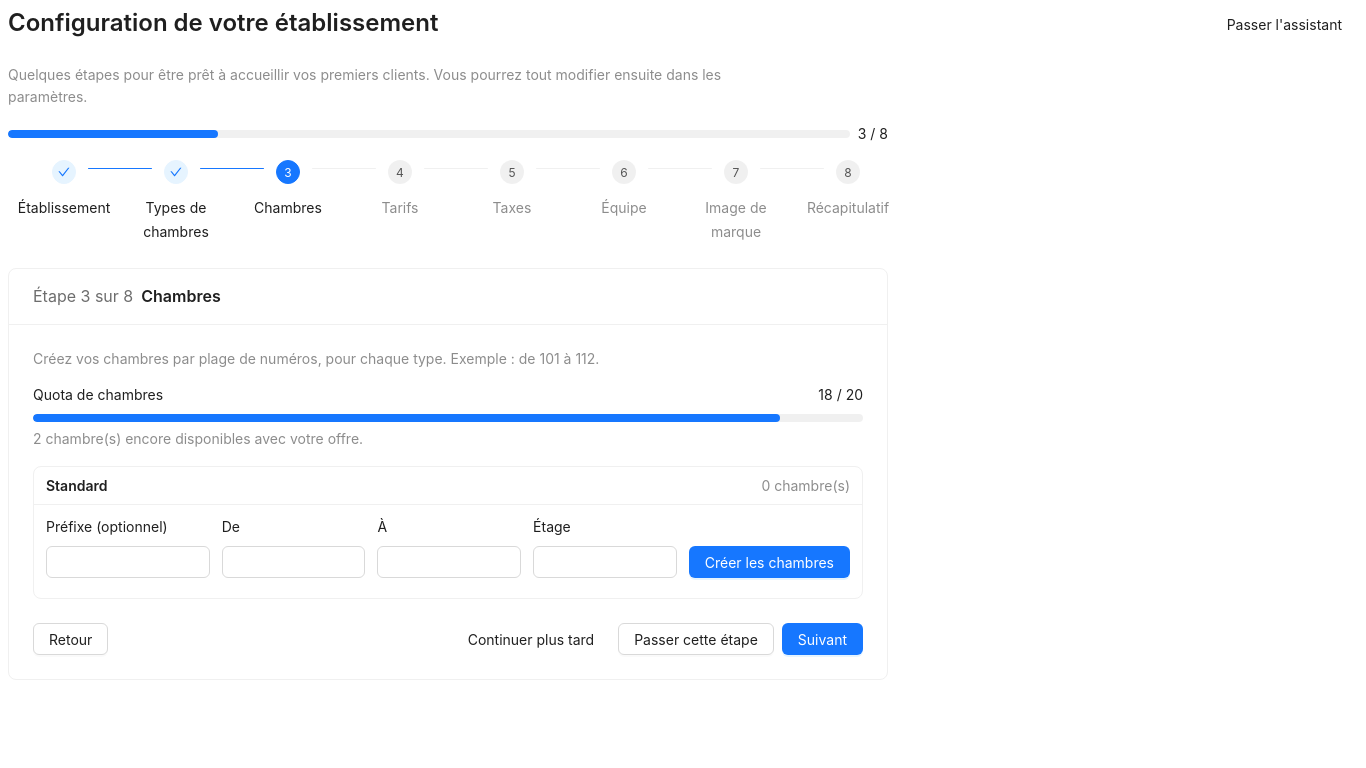
Test: onboarding wizard › resumes at the saved step and saves the progress when moving back and forth
This screenshot has width=1366, height=768.
Expected: the text "Étape 3 sur 8" is shown, [33,286,133,306]
Expected: the text "Créez vos chambres par plage" is shown, [33,350,599,367]
Click the button "Retour" at (71, 639), box [33,623,108,655]
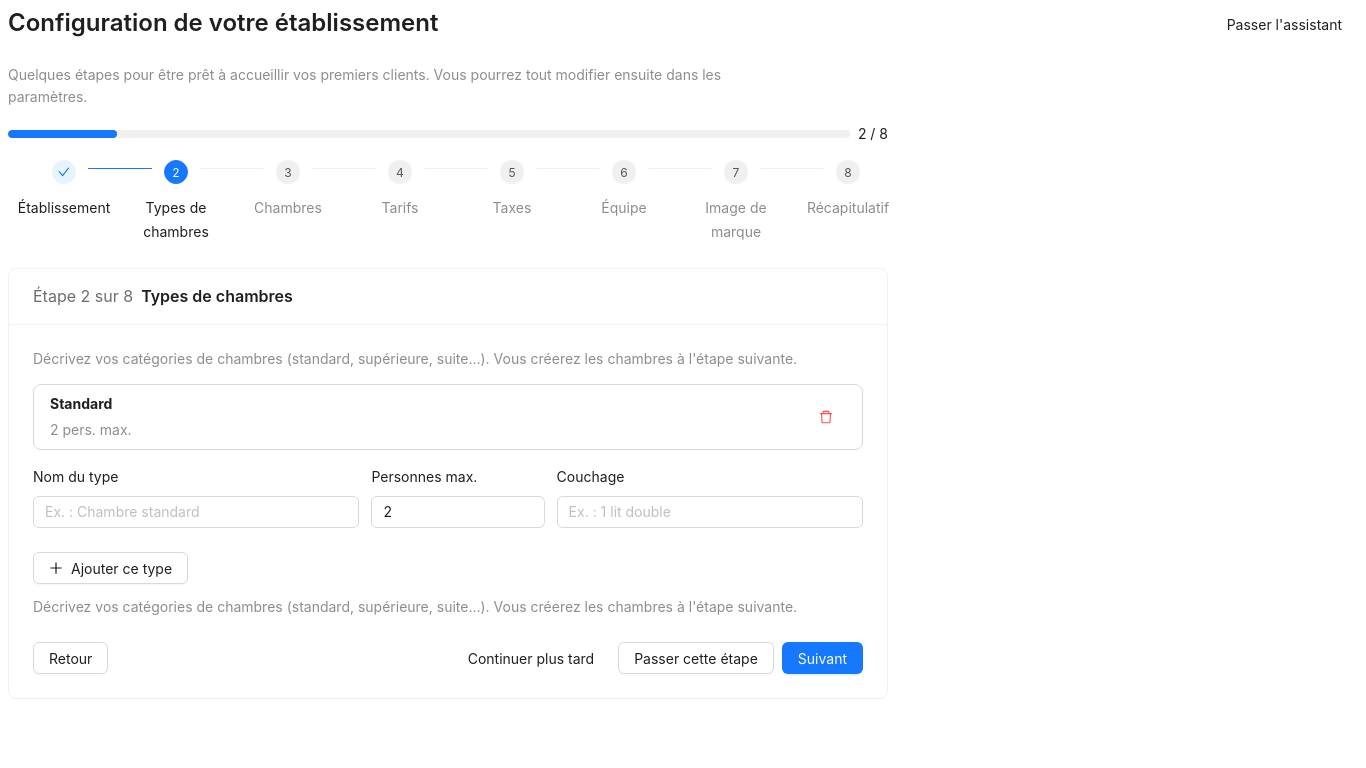
Expected: the text "Étape 2 sur 8" is shown, [33,286,133,306]
Click the button "Suivant" at (822, 658), box [782,642,863,674]
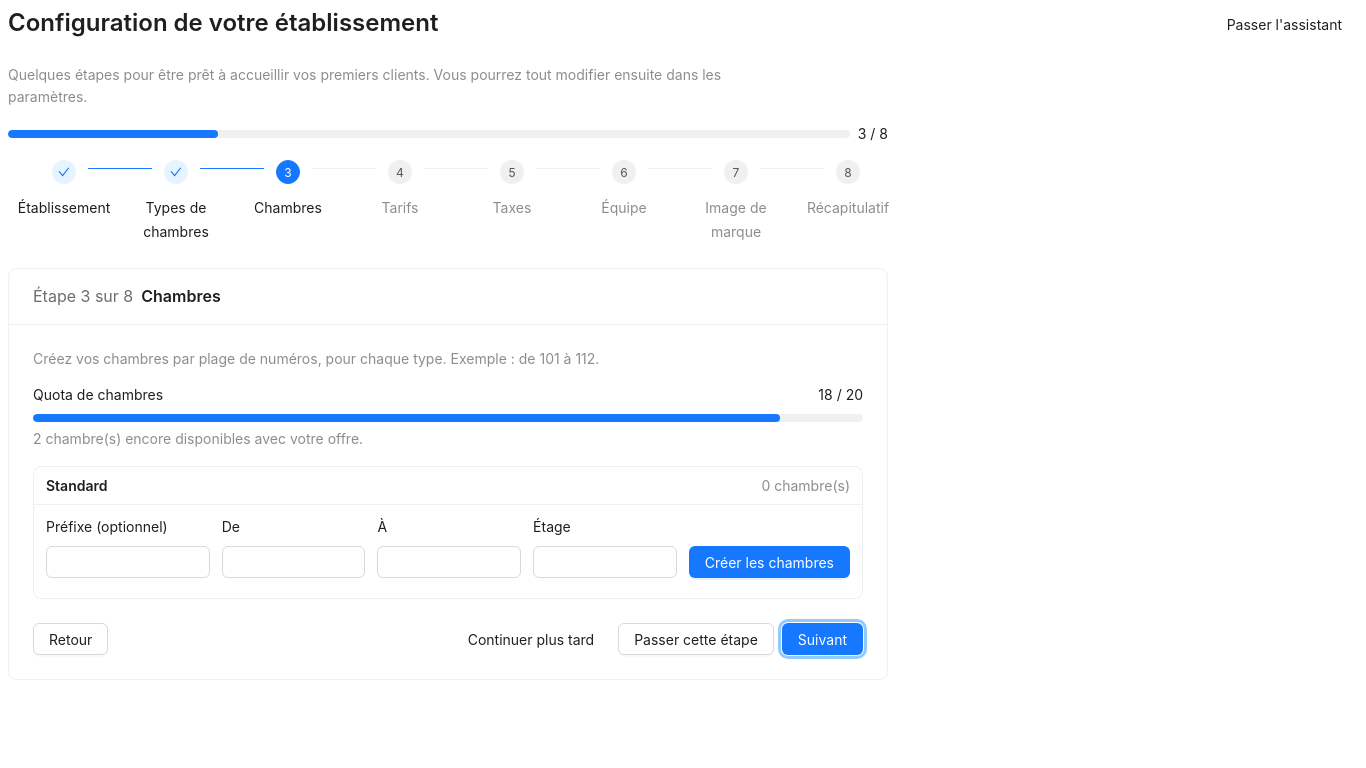
Expected: the text "Étape 3 sur 8" is shown, [33,286,133,306]
